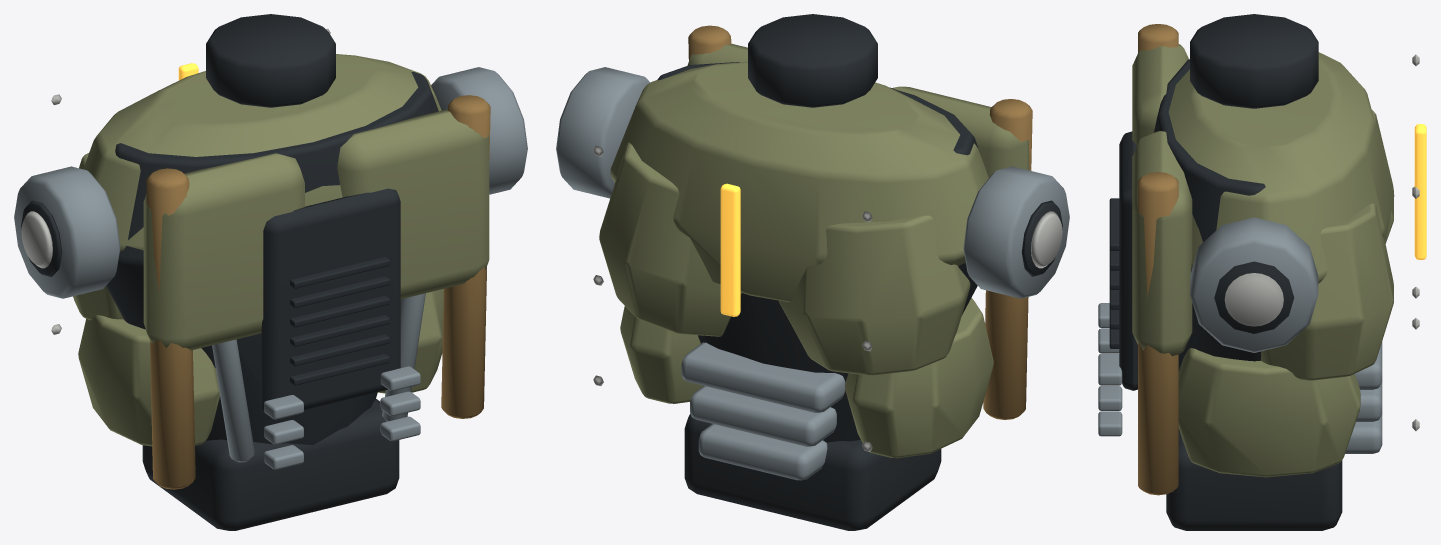
The model's file is torsos_06.glb.
3 views of the same model, side by side, from view 1: azimuth 30°, elevation 25°; view 2: azimuth 150°, elevation 25°; view 3: azimuth 270°, elevation 25° (orthographic).
Parts seen in each view (by area): view 1: torsos_06_Geometry; view 2: torsos_06_Geometry; view 3: torsos_06_Geometry.
Boxes of the visible parts, bbox=[...] form: torsos_06_Geometry: bbox=[14, 14, 527, 530]; torsos_06_Geometry: bbox=[556, 14, 1069, 530]; torsos_06_Geometry: bbox=[1098, 14, 1426, 530].
Bounding box in the file's own units: 0.692 × 0.625 × 0.4105.
